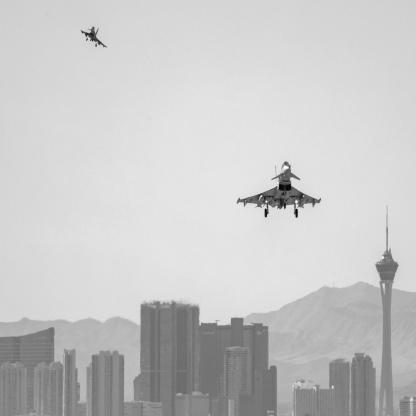EF2000: (237, 162, 322, 219), (81, 27, 108, 49)
